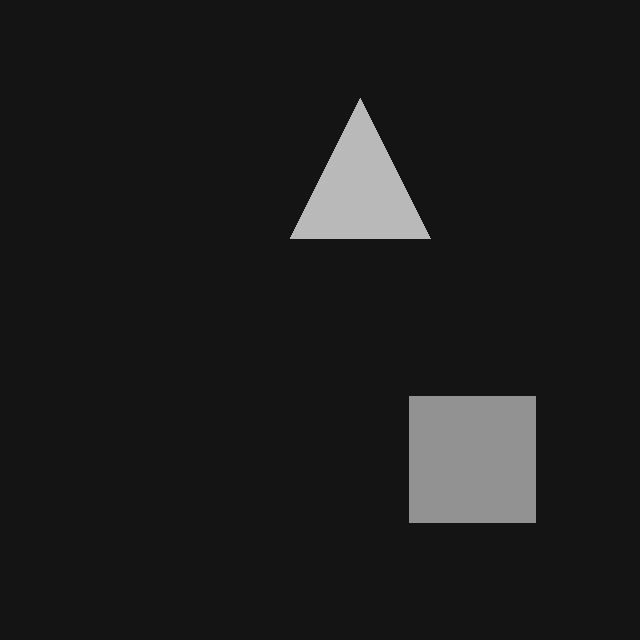square: (409, 396, 535, 522)
triangle: (290, 98, 430, 238)
